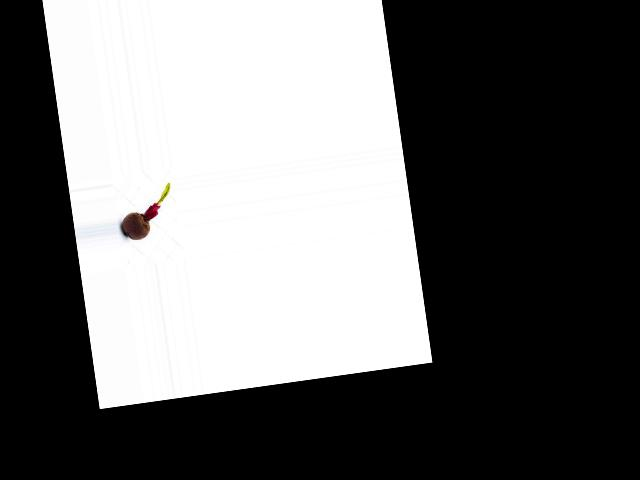beet: (117, 183, 176, 242)
